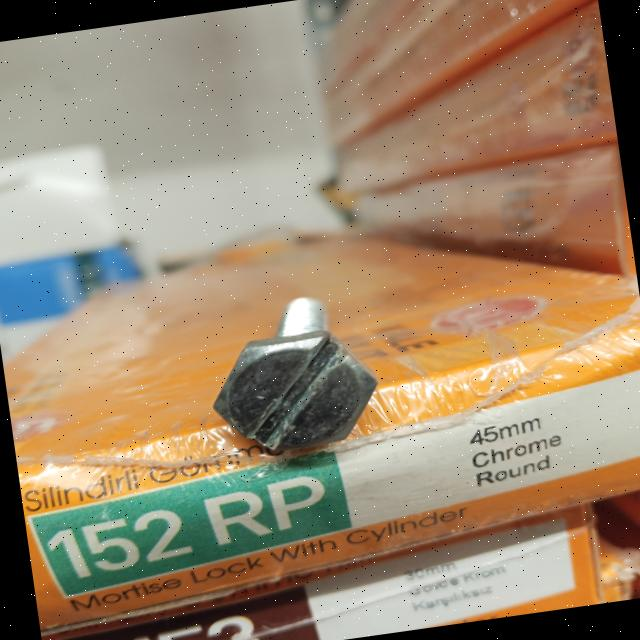Slotted: (192, 315, 404, 470)
